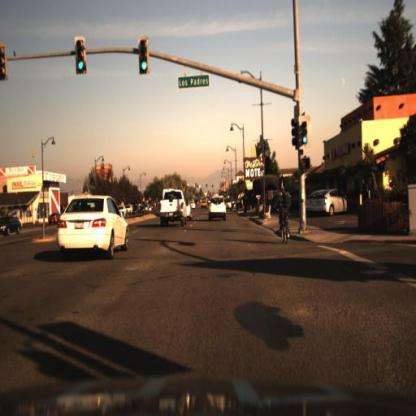biker: (274, 182, 292, 248)
car: (56, 195, 131, 260), (158, 189, 187, 225), (312, 192, 350, 219), (209, 198, 229, 226), (302, 183, 314, 217), (182, 195, 195, 225), (47, 212, 65, 226), (48, 211, 61, 229)
trafficLight-Green: (74, 33, 91, 80), (139, 32, 151, 80), (300, 114, 311, 149)
